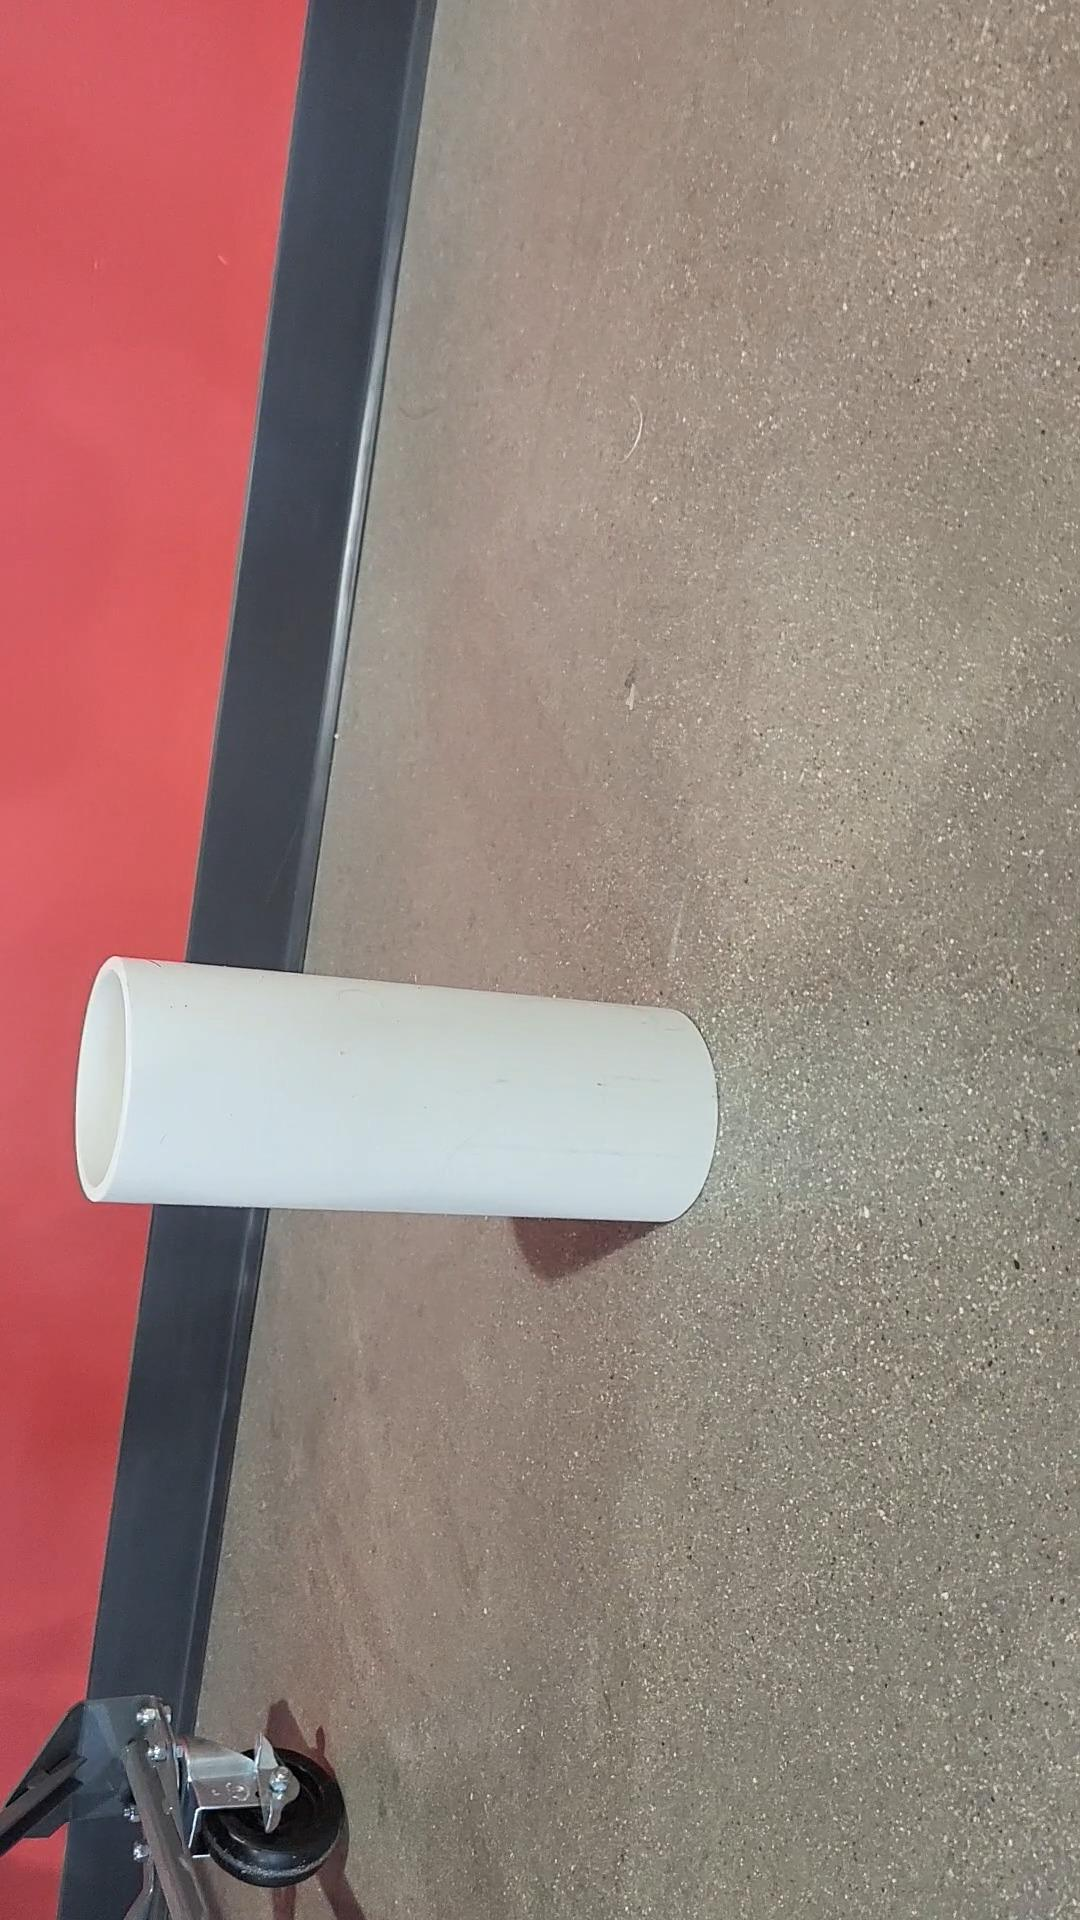coral: (80, 955, 720, 1228)
